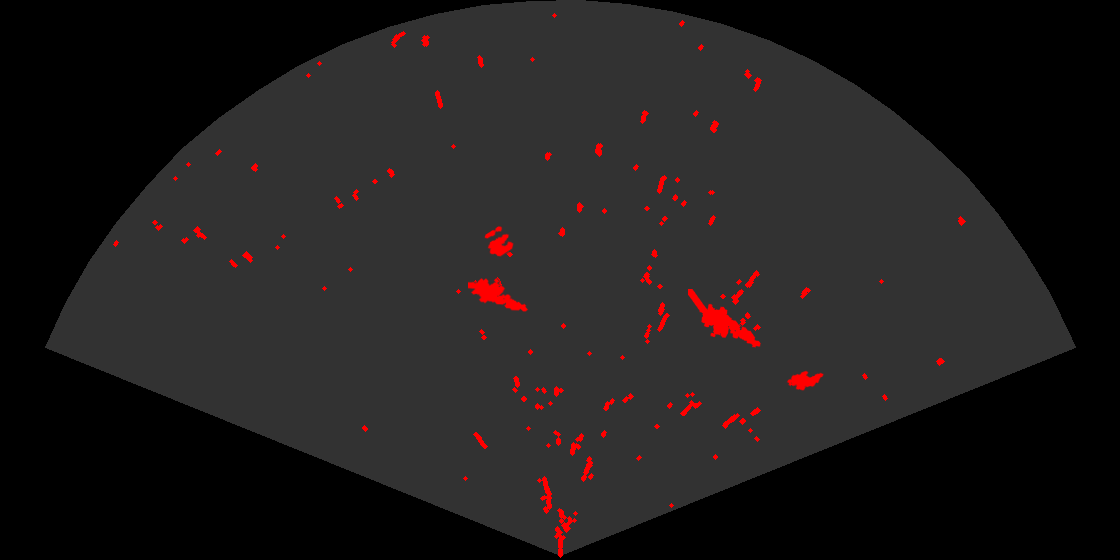AUV: (785, 369, 826, 392)
ball: (483, 225, 515, 258)
frogman: (688, 289, 762, 349), (468, 277, 529, 313)
